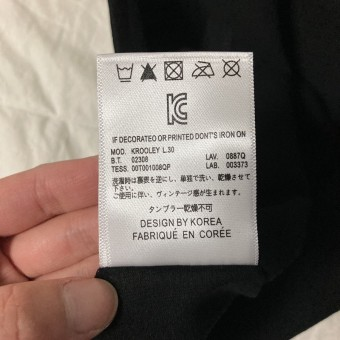ER_no_bleach: (139, 61, 159, 84)
ER_no_dry_clean: (220, 56, 244, 81)
ER_no_iron: (191, 58, 216, 80)
ER_no_tumble_dry: (162, 60, 186, 82)
